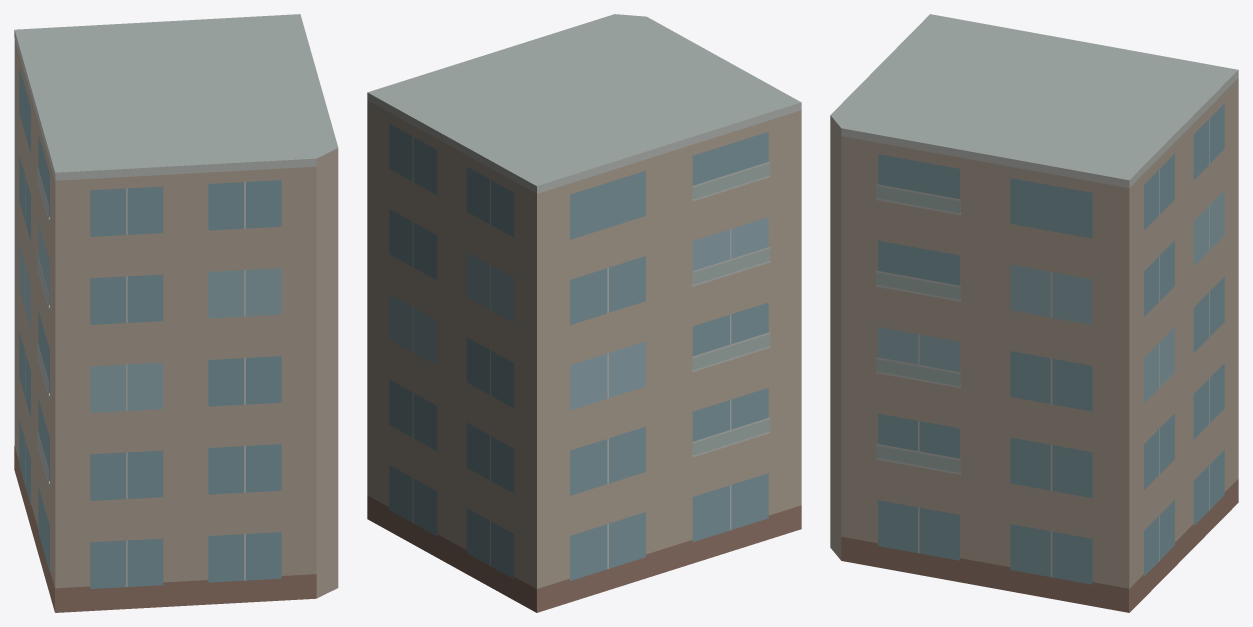
The model's file is survey-upis-32534346.glb.
3 views of the same model, side by side, from view 1: azimuth 30°, elevation 25°; view 2: azimuth 150°, elevation 25°; view 3: azimuth 270°, elevation 25° (orthographic). The views are drawn at different scales.
Parts seen in each view (by area): view 1: survey-upis-32534346.tmp; view 2: survey-upis-32534346.tmp; view 3: survey-upis-32534346.tmp.
Part boxes in pixels (x1,y1,x2,y2): survey-upis-32534346.tmp: [14, 14, 338, 612]; survey-upis-32534346.tmp: [367, 14, 801, 612]; survey-upis-32534346.tmp: [830, 14, 1238, 612].
Size of the model in its own units: 11.06 by 13.4 by 11.47.
